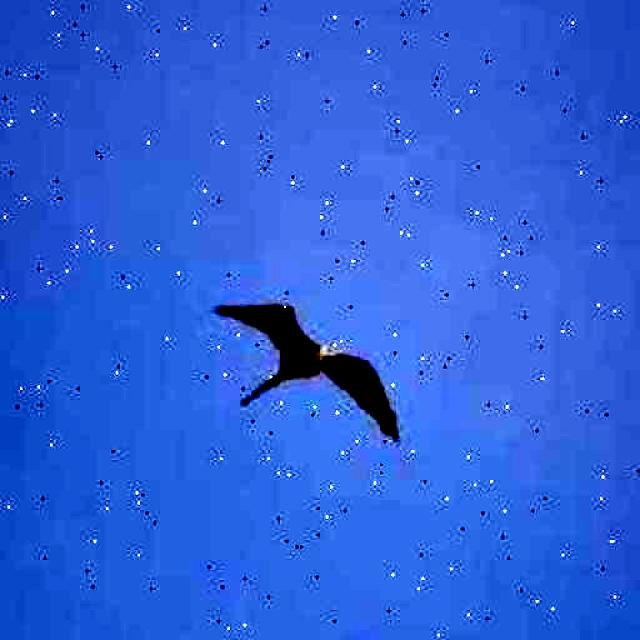airplane: (201, 299, 409, 445)
